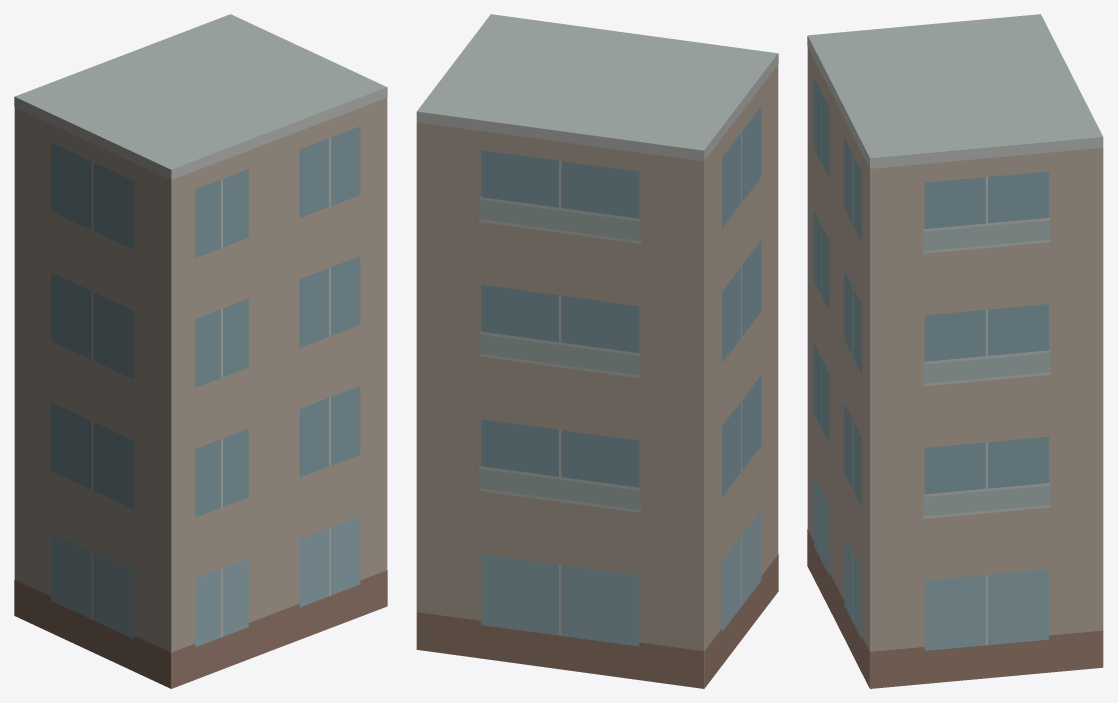
The model's file is residential-76c2fa58-33dd-47e6-bb52-e37ed71442f2.glb.
3 views of the same model, side by side, from view 1: azimuth 30°, elevation 25°; view 2: azimuth 150°, elevation 25°; view 3: azimuth 270°, elevation 25° (orthographic). The views are drawn at different scales.
Parts seen in each view (by area): view 1: residential-76c2fa58-33dd-47e6-bb52-e37ed71442f2.tmp; view 2: residential-76c2fa58-33dd-47e6-bb52-e37ed71442f2.tmp; view 3: residential-76c2fa58-33dd-47e6-bb52-e37ed71442f2.tmp.
Part boxes in pixels (x1,y1,x2,y2): residential-76c2fa58-33dd-47e6-bb52-e37ed71442f2.tmp: [14, 14, 387, 688]; residential-76c2fa58-33dd-47e6-bb52-e37ed71442f2.tmp: [416, 14, 778, 688]; residential-76c2fa58-33dd-47e6-bb52-e37ed71442f2.tmp: [807, 14, 1103, 688].
Bounding box in the file's own units: 7.13 × 12.2 × 6.18.
